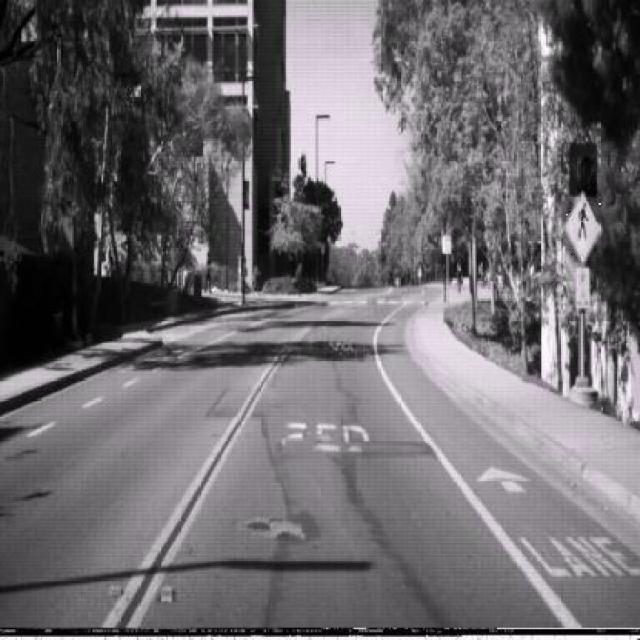pedestrianCrossing: (563, 190, 602, 268)
